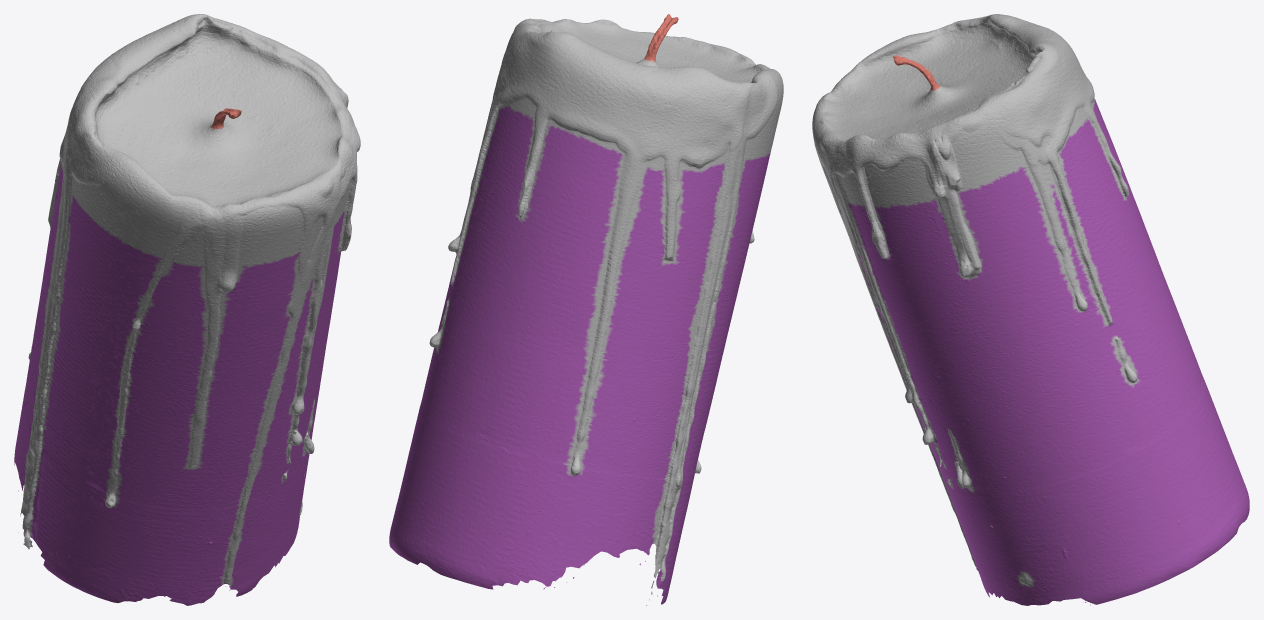
The model's file is taxonomy_04_merged.glb.
3 renders of one model, left to right at view 1: azimuth 30°, elevation 25°; view 2: azimuth 150°, elevation 25°; view 3: azimuth 270°, elevation 25°, orthographic. The views are drawn at different scales.
Visible parts, largest first — view 1: world; view 2: world; view 3: world.
Part boxes in pixels (x1,y1,x2,y2): world: (14, 14, 360, 605); world: (389, 14, 783, 605); world: (812, 14, 1249, 605).
Size of the model in its own units: 64.19 by 123 by 89.92.
